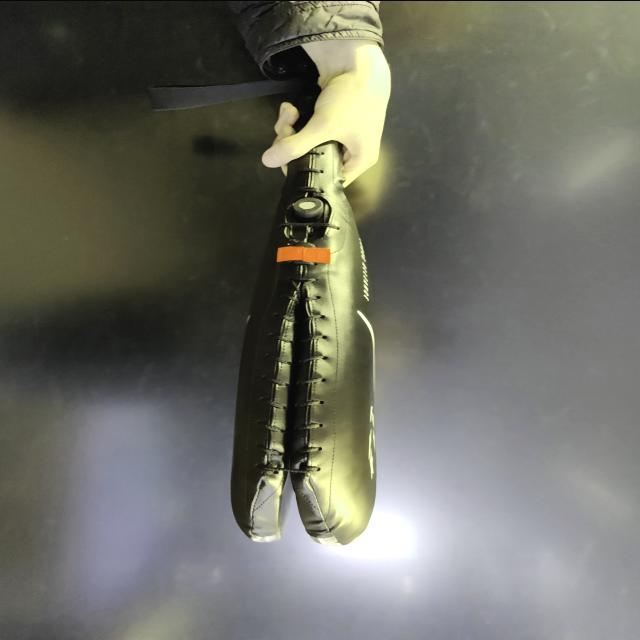paddle: (226, 144, 388, 546)
